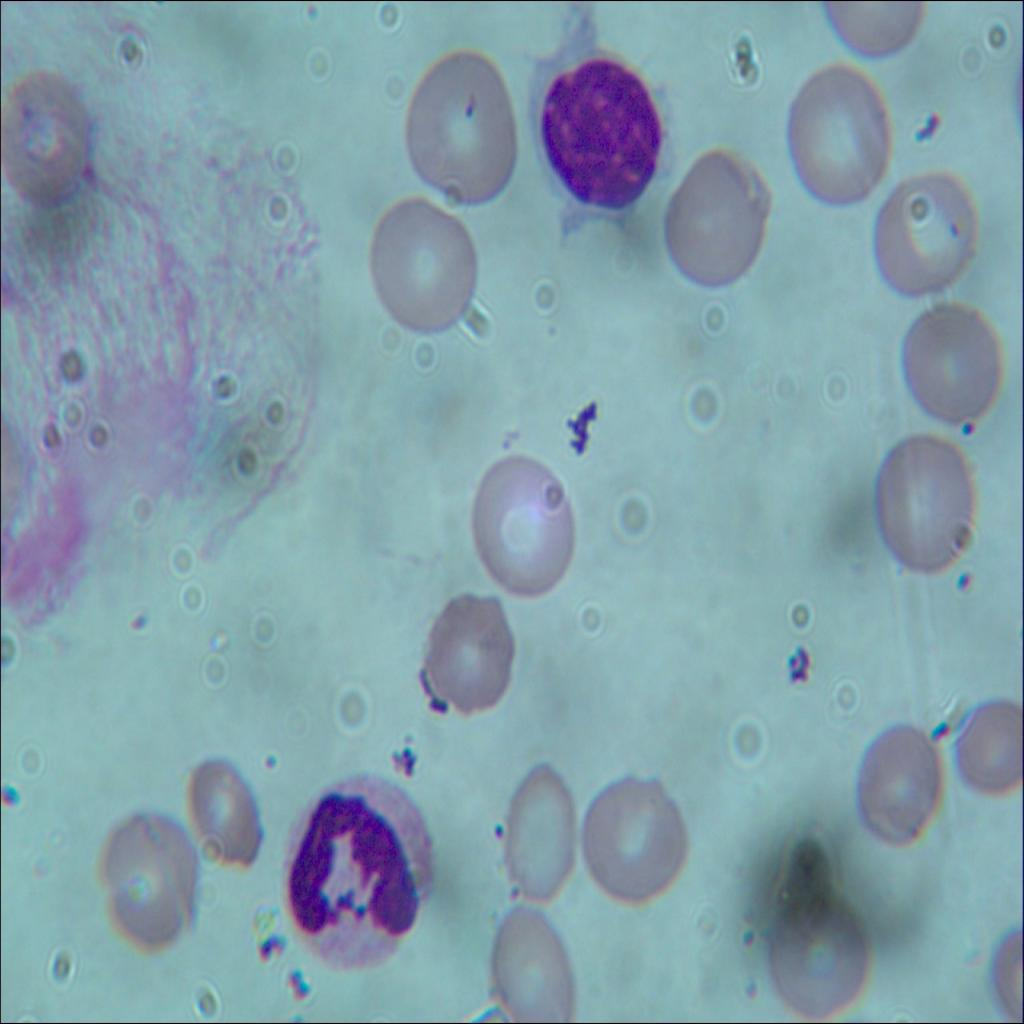Eritrosit: (404, 51, 518, 205), (658, 145, 766, 302), (368, 188, 475, 341), (869, 422, 981, 568), (464, 444, 573, 592), (866, 159, 980, 298), (782, 61, 886, 208), (753, 897, 873, 1021), (0, 67, 102, 211), (98, 806, 198, 950), (586, 768, 689, 897), (902, 294, 1000, 422), (423, 585, 515, 721), (486, 892, 581, 1023), (180, 742, 270, 879), (495, 755, 575, 894), (862, 718, 939, 845), (954, 681, 1023, 801)
Limfosit: (542, 58, 662, 218)
Neutrofil: (286, 768, 442, 992)
Platelet: (783, 642, 816, 691), (118, 595, 150, 638), (260, 737, 286, 788), (955, 405, 983, 444), (486, 818, 512, 859), (948, 562, 981, 594), (0, 787, 36, 814), (299, 0, 321, 15)
